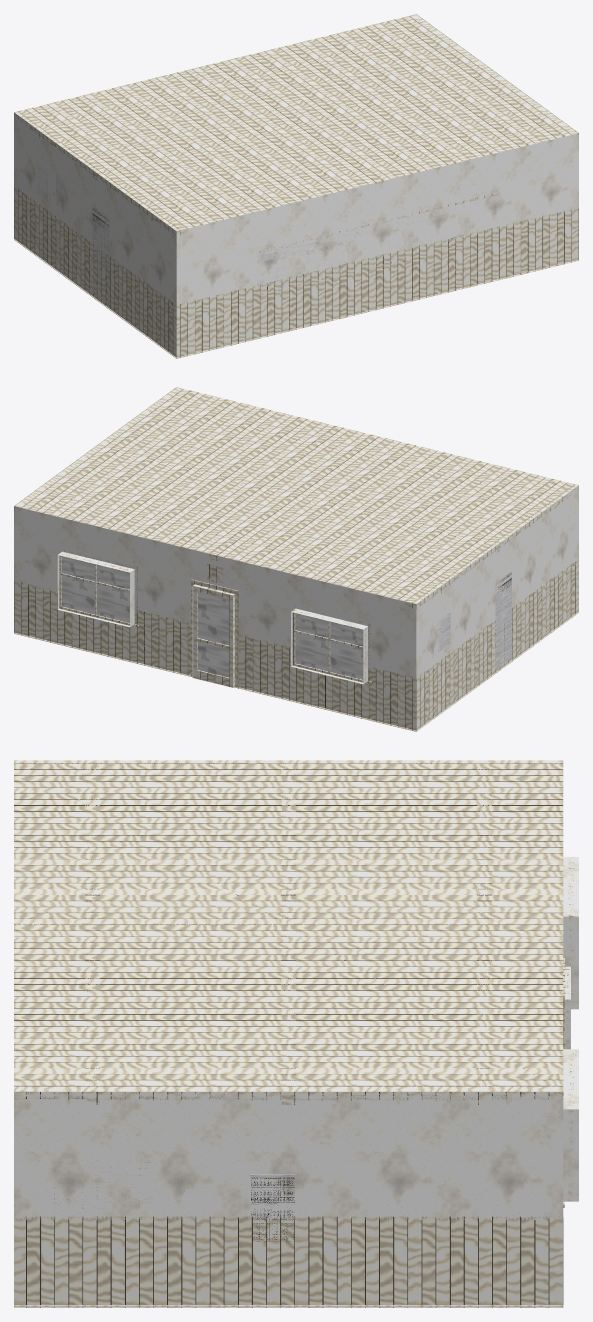
Rendered from bar_interno.obj.
3 renders of one model, top to bottom at view 1: azimuth 30°, elevation 25°; view 2: azimuth 150°, elevation 25°; view 3: azimuth 270°, elevation 25°, orthographic. The views are drawn at different scales.
Visible parts, largest first — view 1: bar_interno; view 2: bar_interno; view 3: bar_interno.
Boxes of the visible parts, x1=… form: bar_interno: x1=14, y1=14, x2=578, y2=358; bar_interno: x1=14, y1=387, x2=578, y2=731; bar_interno: x1=14, y1=760, x2=578, y2=1307.
Size of the model in its own units: 10.01 by 3.03 by 7.2.
101 materials, 76 textured.
